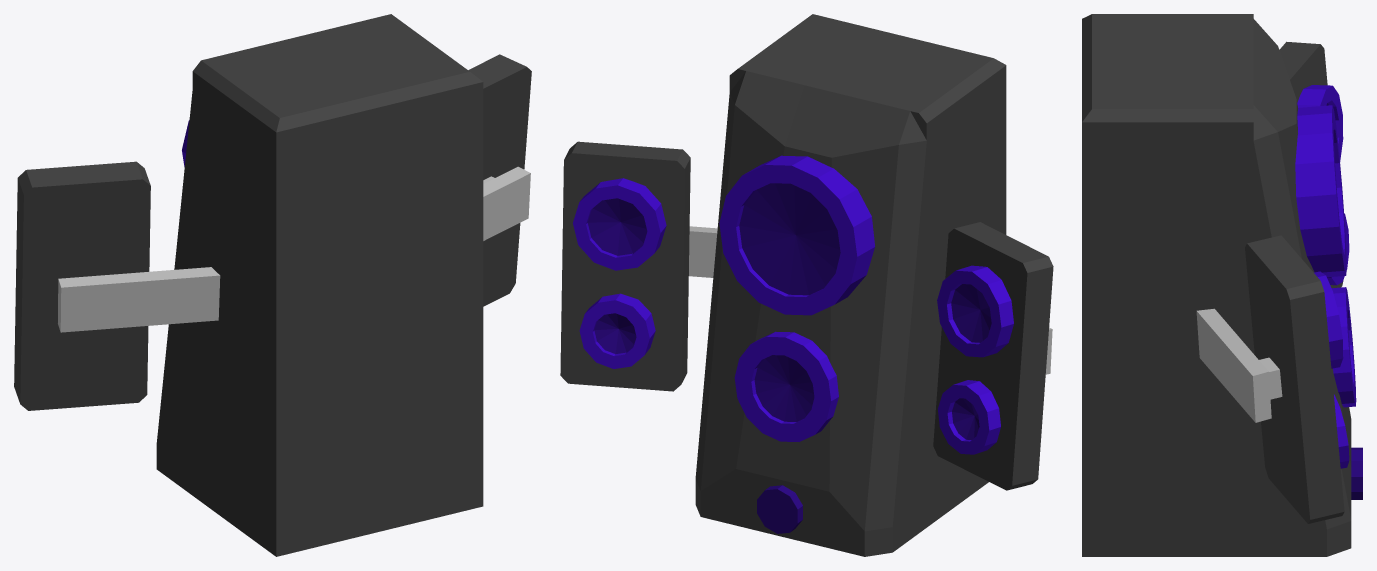
File: som.fbx
3 renders of one model, left to right at view 1: azimuth 30°, elevation 25°; view 2: azimuth 150°, elevation 25°; view 3: azimuth 270°, elevation 25°, orthographic. The views are drawn at different scales.
Visible parts, largest first — view 1: CaixaDeSomMuitoPotente; view 2: CaixaDeSomMuitoPotente; view 3: CaixaDeSomMuitoPotente.
Part boxes in pixels (x1=…): CaixaDeSomMuitoPotente: x1=14, y1=14, x2=531, y2=556; CaixaDeSomMuitoPotente: x1=560, y1=14, x2=1053, y2=556; CaixaDeSomMuitoPotente: x1=1082, y1=14, x2=1362, y2=556.
Bounding box in the file's own units: 245 × 200 × 115.
